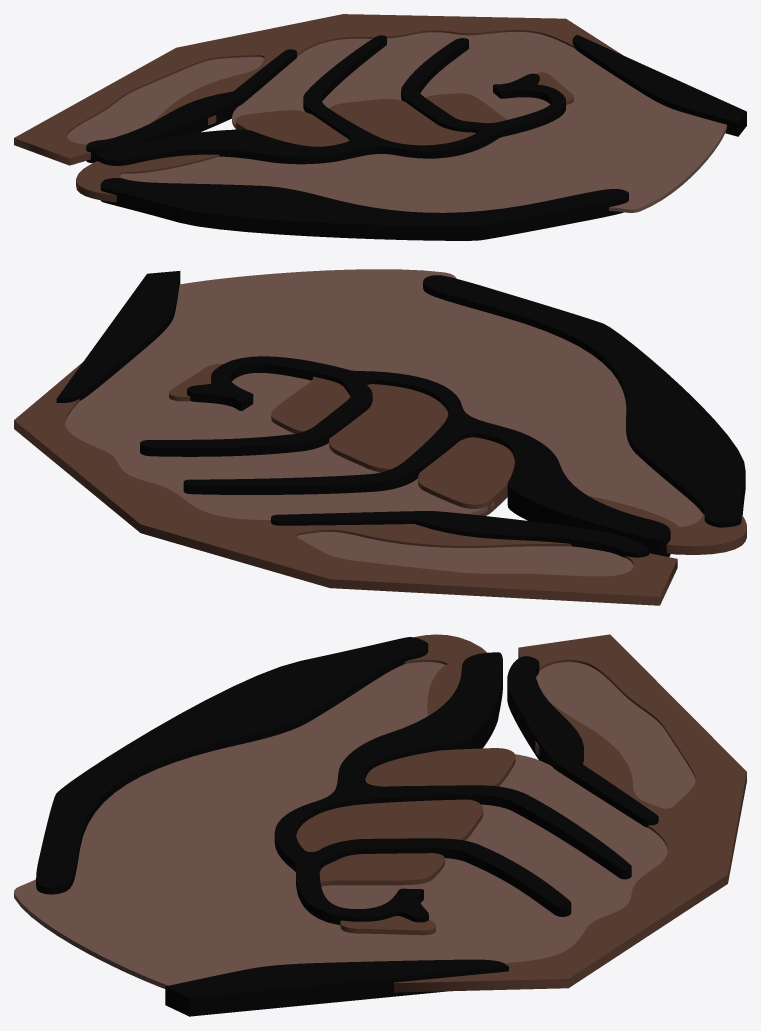
File: emoji_u1f90f_1f3ff.glb
3 views of the same model, one above another, from view 1: azimuth 30°, elevation 25°; view 2: azimuth 150°, elevation 25°; view 3: azimuth 270°, elevation 25° (orthographic). The views are drawn at different scales.
Parts seen in each view (by area): view 1: emoji_u1f90f_1f3ff; view 2: emoji_u1f90f_1f3ff; view 3: emoji_u1f90f_1f3ff.
Boxes of the visible parts, x1,y1,x2,y2 form: emoji_u1f90f_1f3ff: (14,14,746,240); emoji_u1f90f_1f3ff: (14,269,746,605); emoji_u1f90f_1f3ff: (14,634,746,1016).
Size of the model in its own units: 0.0336 by 0.001 by 0.0283.
